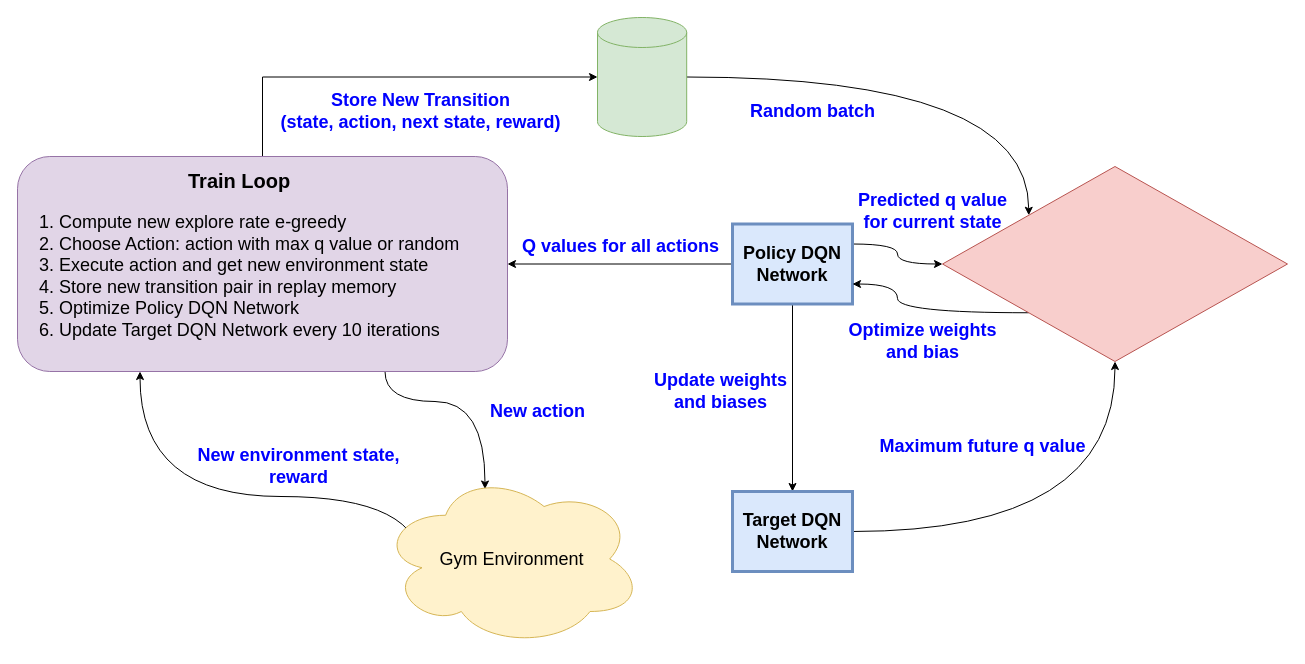
The diagram is 1305 pixels wide and 664 high, and some of its shapes have lost their labels. The box of each missing label's shape, as (x1, y1, x2, y2) in pixels:
Optimizer 1. Calculate new loss from q function 2. Back propagation: (942, 166, 1288, 362)
Replay Memory: (596, 16, 687, 136)
